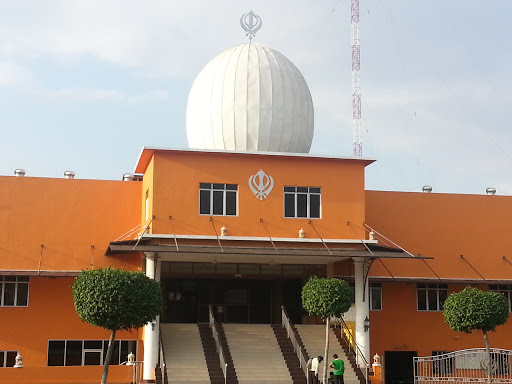Gurdwara: (128, 7, 361, 359)
